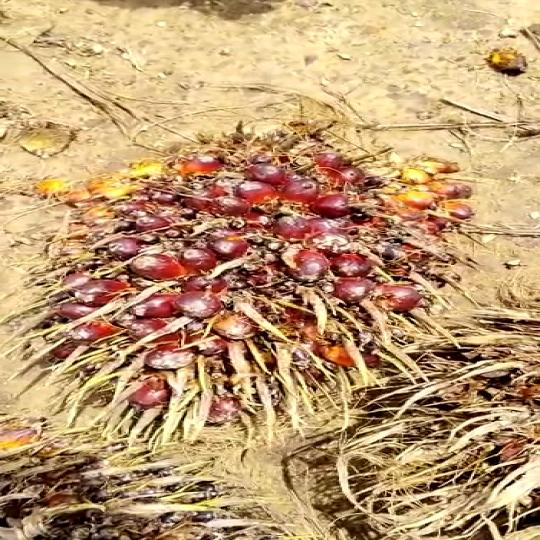masak: (65, 125, 461, 429)
